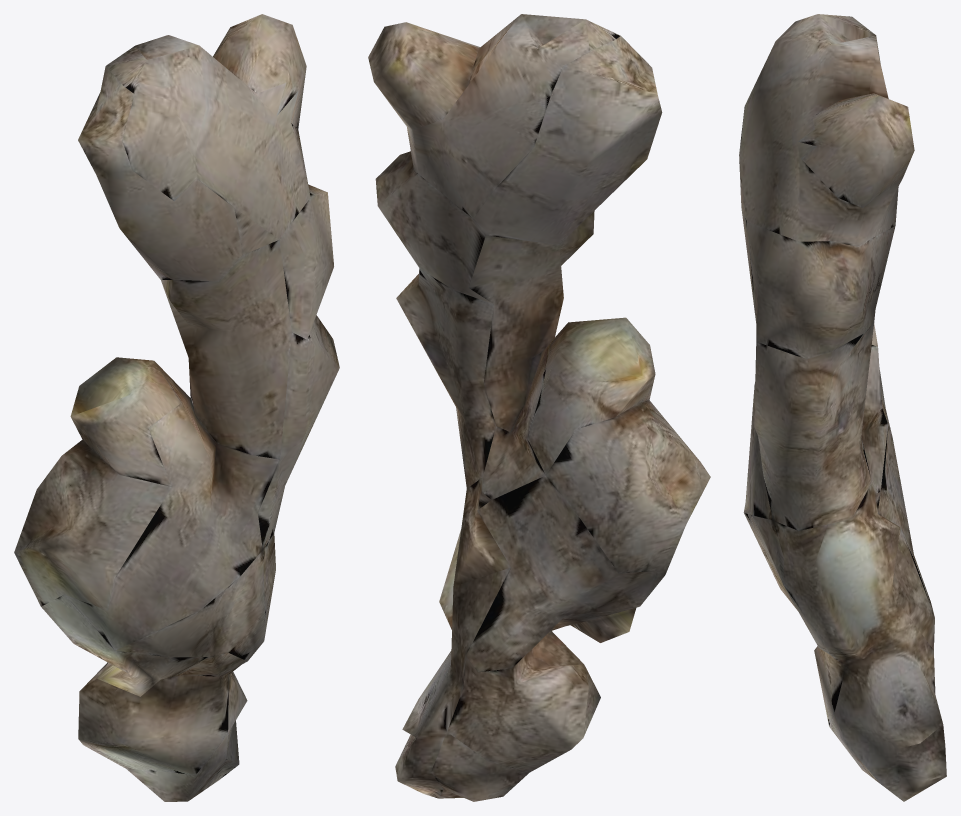
Rendered from food_ginger_01.glb.
The picture shows the model from 3 angles, left to right: view 1: azimuth 30°, elevation 25°; view 2: azimuth 150°, elevation 25°; view 3: azimuth 270°, elevation 25°; orthographic projection. The views are drawn at different scales.
Visible parts, largest first — view 1: food_ginger_01; view 2: food_ginger_01; view 3: food_ginger_01.
Part boxes in pixels (bbox=[...]): food_ginger_01: bbox=[14, 14, 339, 801]; food_ginger_01: bbox=[368, 14, 710, 801]; food_ginger_01: bbox=[739, 14, 946, 801].
Bounding box in the file's own units: 0.2392 × 0.5689 × 0.1461.
Materials: 1 (1 with a texture image).
